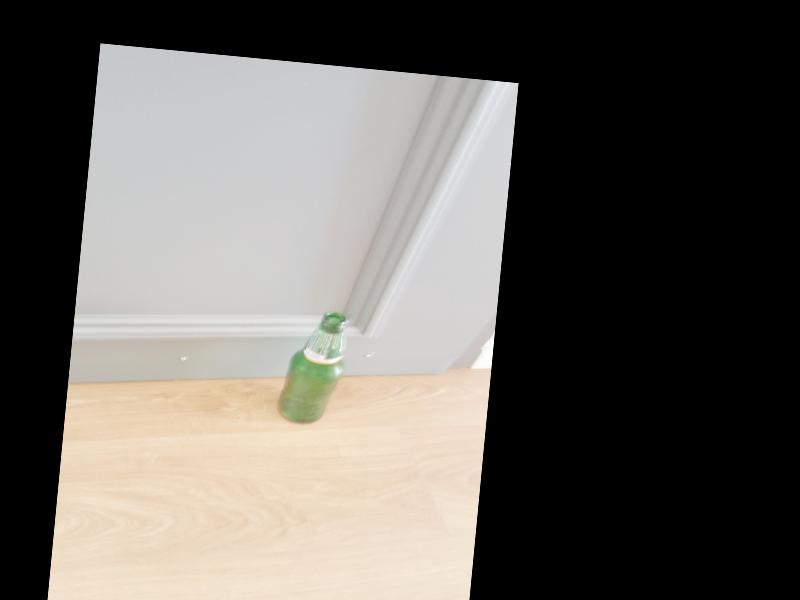Beer: (278, 309, 346, 426)
